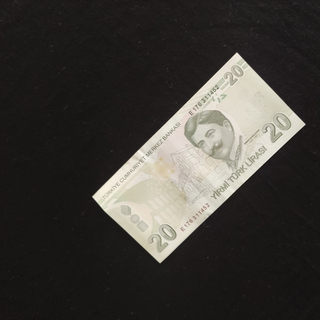20TLBack: (91, 51, 307, 264)
